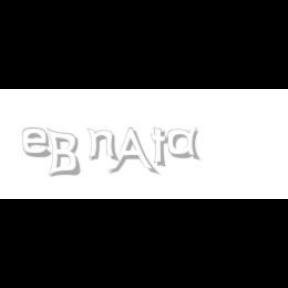A: (108, 128, 156, 176)
B: (46, 128, 80, 178)
a: (168, 128, 204, 160)
e: (22, 128, 55, 158)
n: (86, 128, 120, 162)
t: (151, 128, 173, 168)
